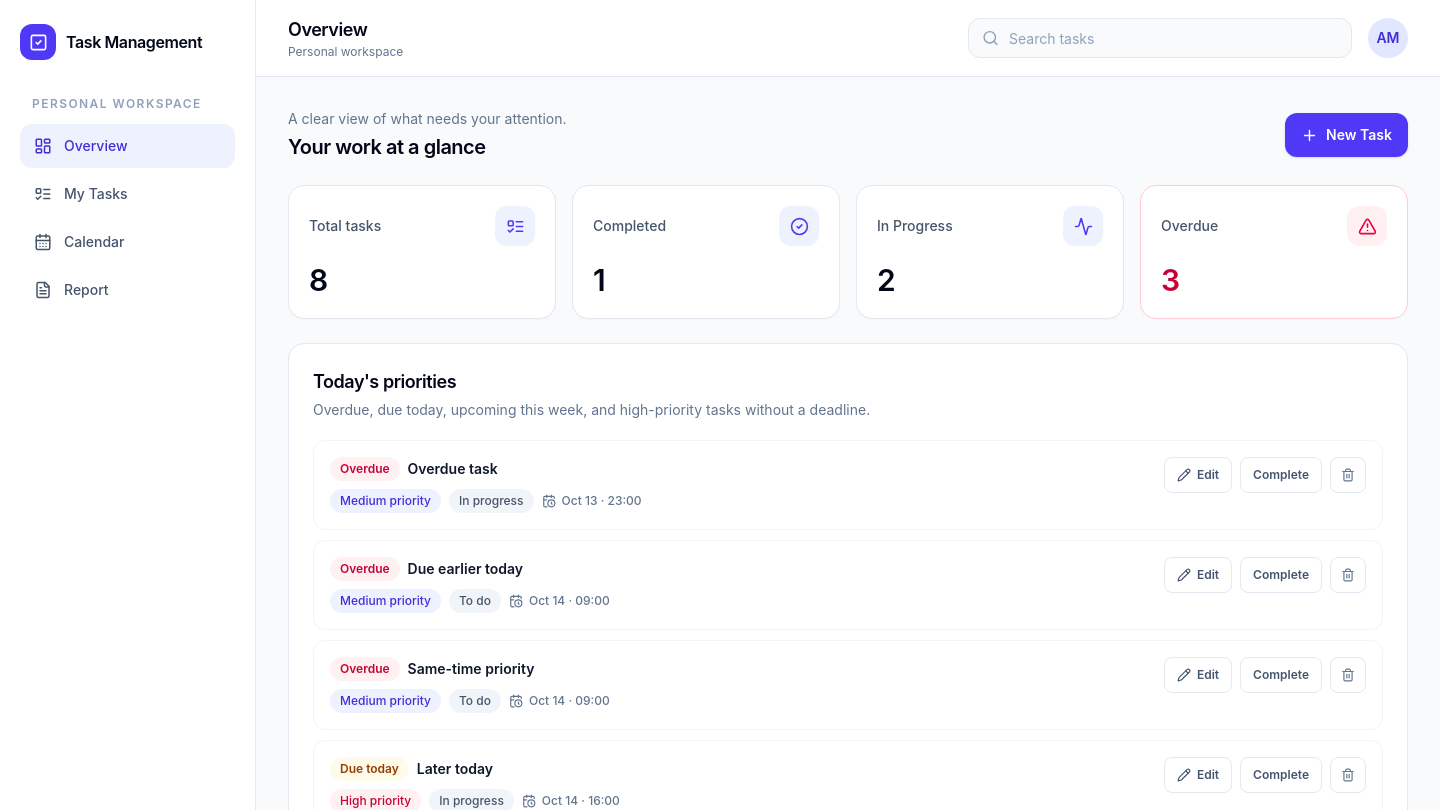
Scenario: dashboard overview › shows personal task counts and unique priorities ordered by urgency
This screenshot has width=1440, height=810.
Expected: the text "8" is shown, [309, 262, 328, 298]
Expected: the text "1" is shown, [593, 262, 605, 298]
What coordinates should you click on to do the following:
click the button "New Task"
I would click on:
 (1347, 135)
Its box is [1285, 113, 1408, 157].
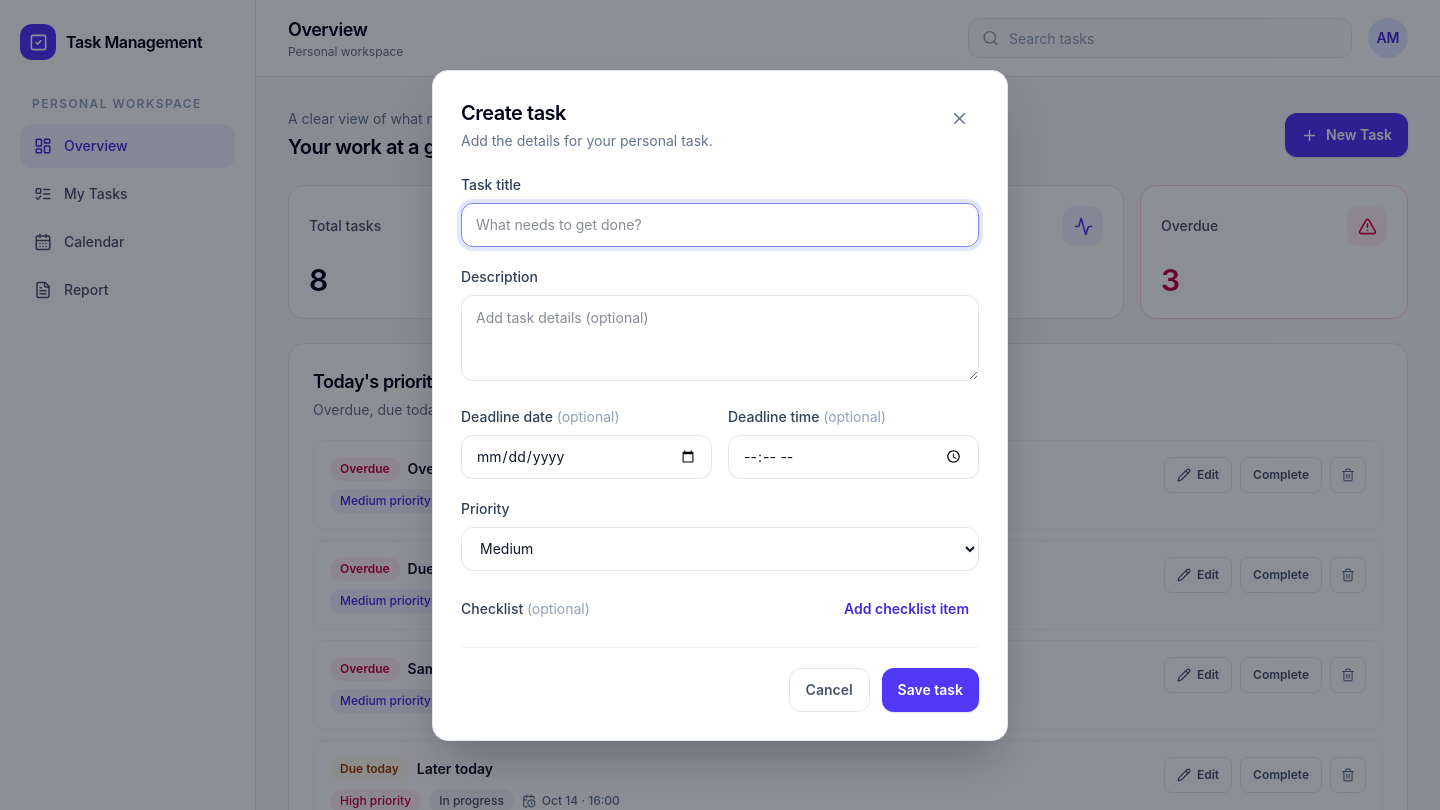
Now the dialog "Create task" is shown, box [432, 70, 1008, 740]
